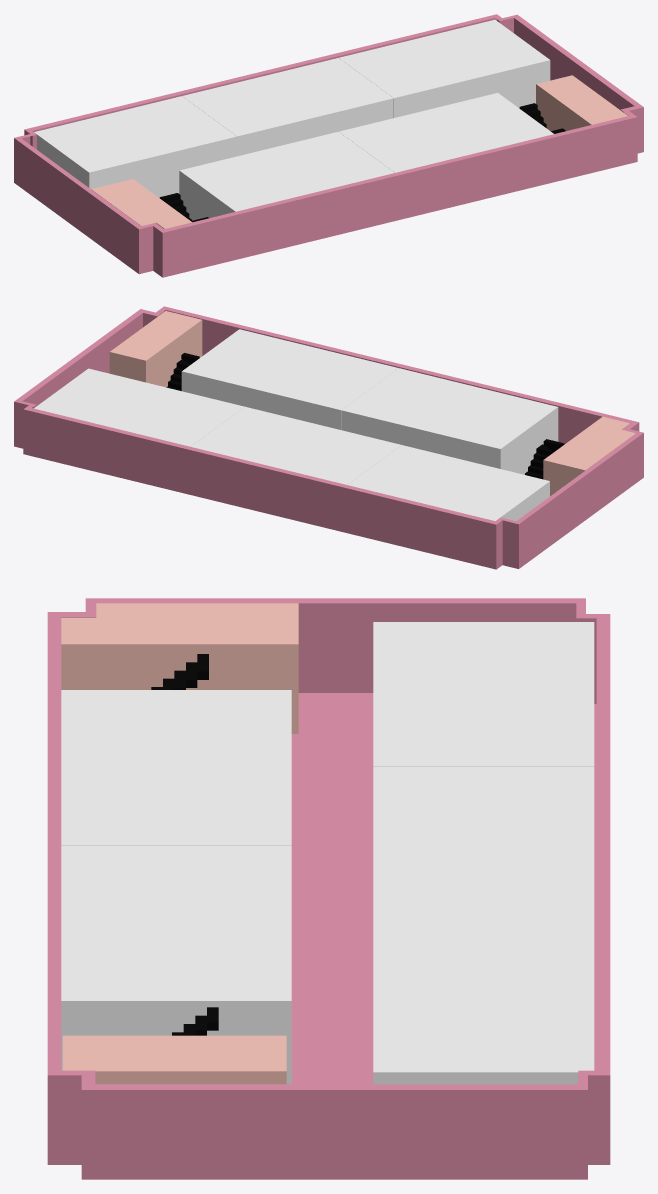
3 renders of one model, top to bottom at view 1: azimuth 30°, elevation 25°; view 2: azimuth 150°, elevation 25°; view 3: azimuth 270°, elevation 25°, orthographic. The views are drawn at different scales.
Visible parts, largest first — view 1: object, 723, 721, 722, 725, 724, 女子トイレ_7_2, 男子トイレ_7_2, 階段_7_2_1; view 2: object, 725, 724, 723, 722, 721, 女子トイレ_7_2, 男子トイレ_7_2, 階段_7_2_1, 階段_7_2_2; view 3: object, 724, 721, 725, 722, 723, 男子トイレ_7_2, 女子トイレ_7_2, 階段_7_2_1.
Boxes of the visible parts, x1,y1,x2,y2 form: object: [14, 14, 643, 277]; 723: [34, 96, 237, 197]; 721: [339, 19, 550, 117]; 722: [182, 58, 393, 156]; 725: [179, 131, 394, 220]; 724: [339, 93, 553, 172]; 女子トイレ_7_2: [536, 75, 627, 131]; 男子トイレ_7_2: [91, 179, 191, 228]; 階段_7_2_1: [159, 193, 208, 222]; object: [14, 306, 643, 569]; 725: [341, 368, 558, 474]; 724: [181, 329, 398, 429]; 723: [348, 445, 549, 520]; 722: [191, 406, 401, 484]; 721: [34, 368, 244, 446]; 女子トイレ_7_2: [109, 311, 202, 387]; 男子トイレ_7_2: [543, 416, 635, 496]; 階段_7_2_1: [525, 439, 564, 479]; 階段_7_2_2: [166, 353, 199, 390]; object: [47, 598, 610, 1179]; 724: [61, 845, 291, 1084]; 721: [373, 919, 594, 1084]; 725: [61, 690, 291, 845]; 722: [373, 766, 594, 919]; 723: [373, 622, 594, 766]; 男子トイレ_7_2: [61, 603, 298, 733]; 女子トイレ_7_2: [62, 1035, 286, 1084]; 階段_7_2_1: [151, 654, 208, 689].
Bounding box in the file's own units: 1.98 × 0.1696 × 0.9556.
